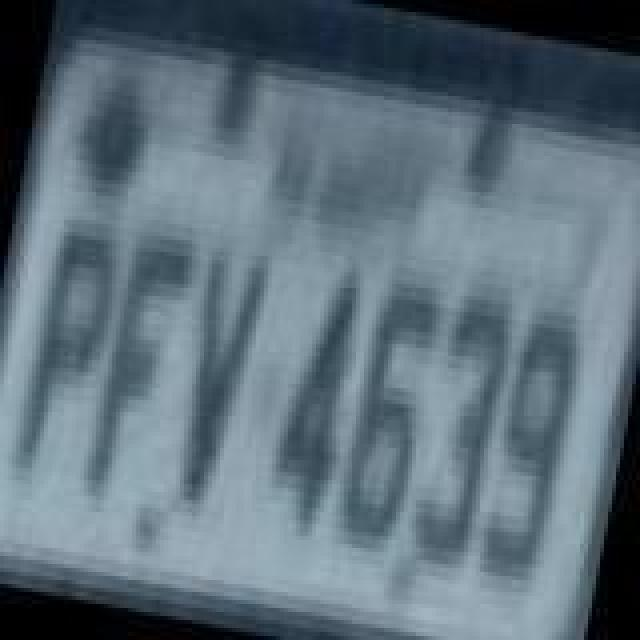3: (398, 292, 514, 572)
4: (258, 256, 374, 544)
6: (336, 282, 448, 550)
9: (468, 302, 588, 594)
F: (84, 230, 204, 506)
P: (10, 224, 126, 488)
V: (160, 250, 272, 502)
